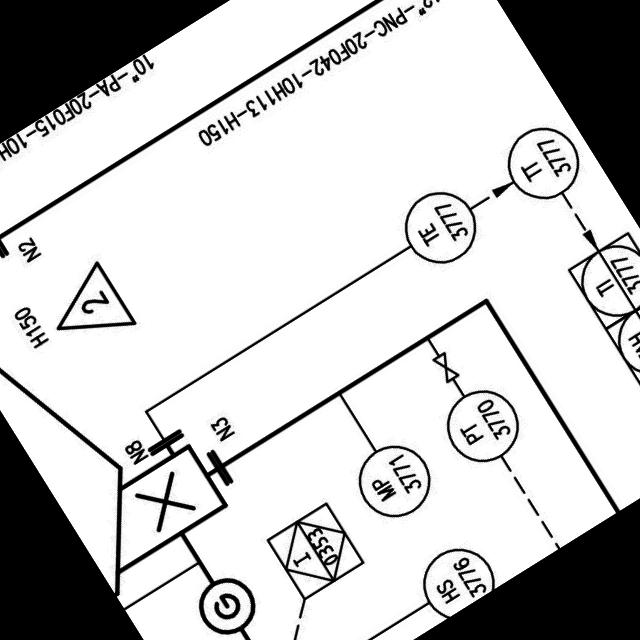GV: (425, 348, 463, 391)
RVM: (182, 564, 319, 640)
